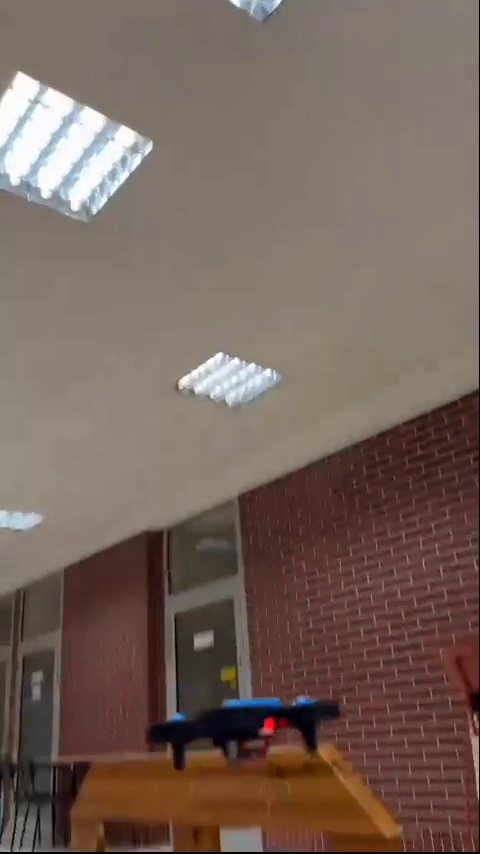drone: (147, 699, 336, 767)
